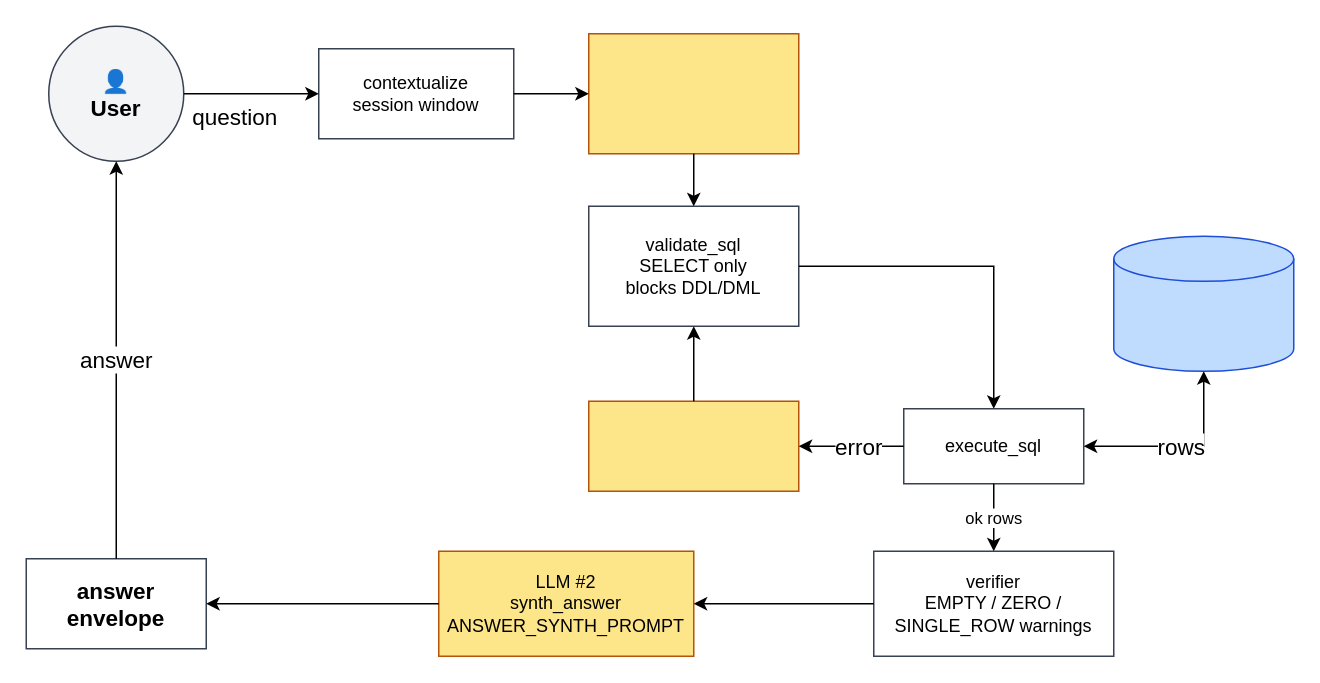
Some shapes in this 1320 by 683 pixel diagram are drawn without their labels. The shapes that lost their labels are listed below. From the top down, each one's box as (x1, y1, x2, y2) in pixels, then its label:
(587, 32, 799, 154): LLM #1 gen_sql SCHEMA_PROMPT
(1112, 235, 1294, 371): SQLite events table
(587, 400, 799, 491): LLM repair_sql error fed back
